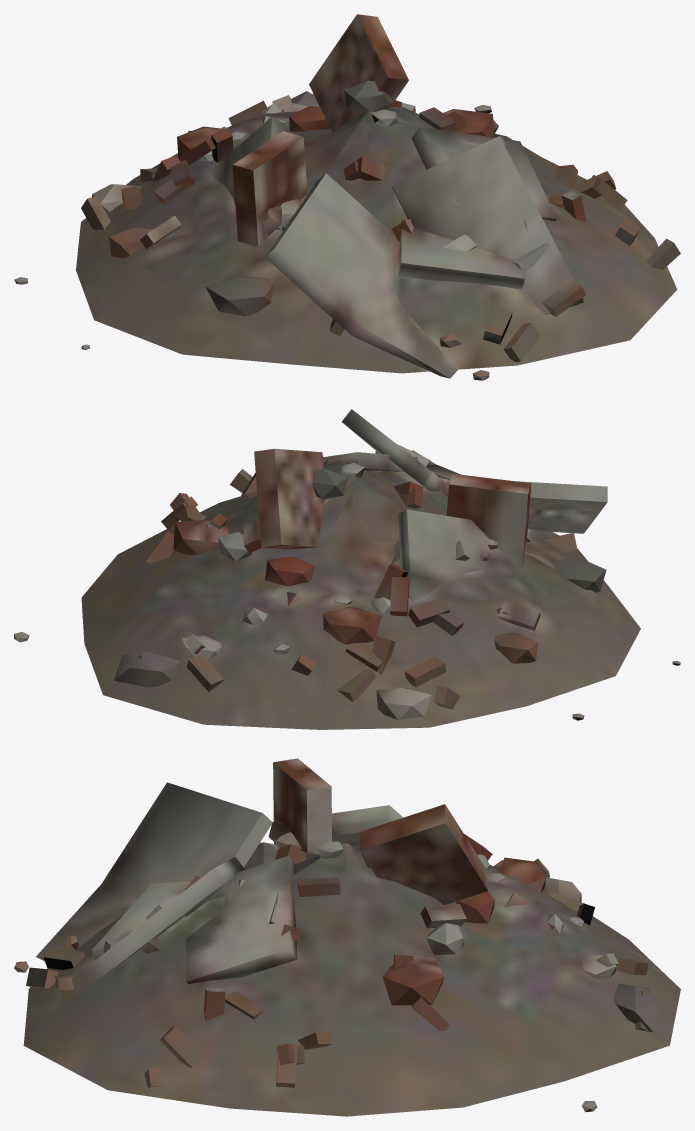
Rendered from rubble-heap-medium.glb.
3 views of the same model, one above another, from view 1: azimuth 30°, elevation 25°; view 2: azimuth 150°, elevation 25°; view 3: azimuth 270°, elevation 25° (orthographic). The views are drawn at different scales.
Parts seen in each view (by area): view 1: heap_medium_mesh; view 2: heap_medium_mesh; view 3: heap_medium_mesh.
Part boxes in pixels (box(x1,y1,x2,y2)): heap_medium_mesh: box(14, 14, 680, 380); heap_medium_mesh: box(14, 409, 680, 729); heap_medium_mesh: box(14, 758, 680, 1116).
Size of the model in its own units: 5.79 by 1.94 by 5.7.
1 material, 1 textured.
